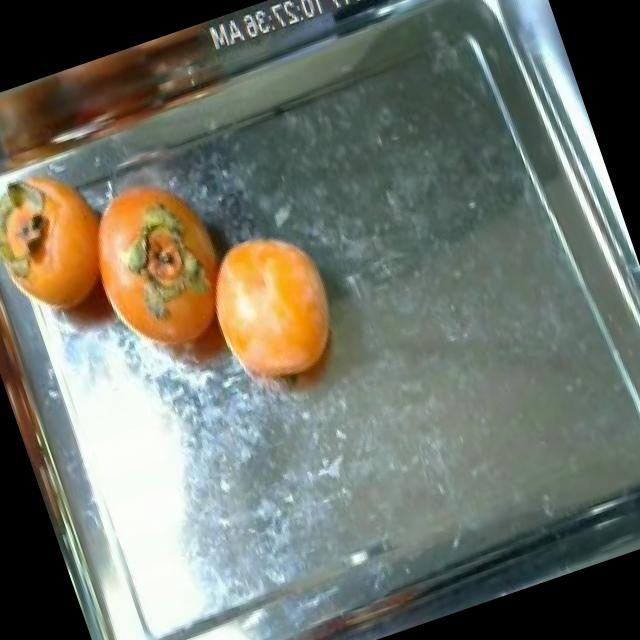Fruit: (178, 200, 374, 423)
